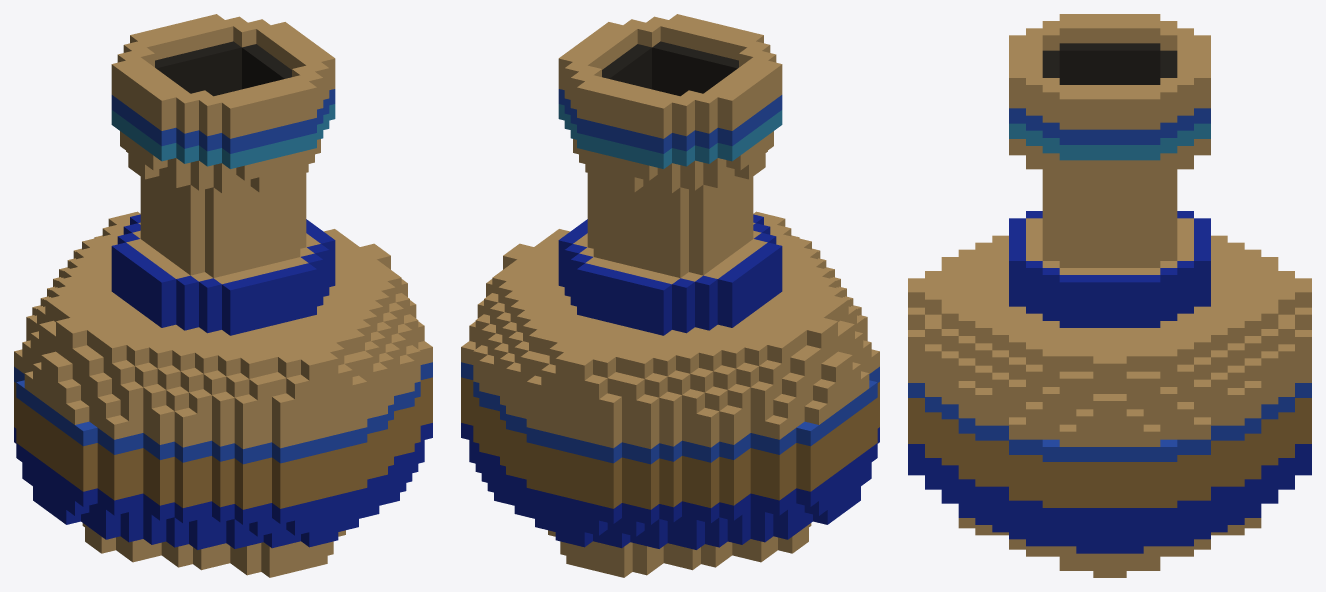
The model's file is Medieval Assets-59-Decoration - Desert - Urn - Variant2.obj.
3 views of the same model, side by side, from view 1: azimuth 30°, elevation 25°; view 2: azimuth 150°, elevation 25°; view 3: azimuth 270°, elevation 25° (orthographic).
Parts seen in each view (by area): view 1: Decoration - Desert - Urn - Variant2; view 2: Decoration - Desert - Urn - Variant2; view 3: Decoration - Desert - Urn - Variant2.
Boxes of the visible parts, x1,y1,x2,y2 form: Decoration - Desert - Urn - Variant2: [14, 14, 432, 577]; Decoration - Desert - Urn - Variant2: [461, 14, 879, 577]; Decoration - Desert - Urn - Variant2: [908, 14, 1311, 577].
Size of the model in its own units: 2.4 by 3 by 2.4.
Materials: 1 (1 with a texture image).
